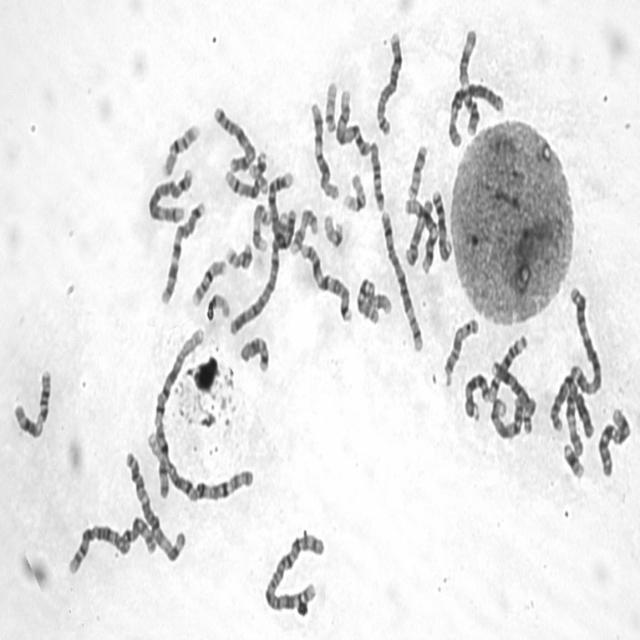A1: (151, 323, 207, 502), (146, 426, 256, 504)
A2: (64, 511, 158, 578), (261, 527, 327, 614)
A3: (122, 445, 187, 565), (566, 279, 603, 398)
B4: (227, 203, 290, 338), (264, 165, 296, 252)
B5: (378, 206, 424, 354), (145, 163, 194, 224)
C10: (598, 403, 634, 478), (353, 273, 391, 325)
C11: (10, 364, 53, 442), (455, 24, 481, 137)
C12: (396, 194, 441, 276), (307, 98, 340, 202)
C6: (445, 76, 505, 150), (547, 364, 585, 458)
C7: (158, 196, 208, 308), (297, 238, 354, 324)
C8: (373, 26, 404, 138), (488, 355, 537, 424)
C9: (333, 84, 371, 158), (488, 391, 525, 443)
D13: (429, 184, 453, 263), (461, 367, 491, 423)
D14: (486, 330, 529, 402), (222, 166, 270, 200)
D15: (440, 313, 480, 389), (402, 194, 435, 272)
E16: (159, 118, 201, 178), (188, 255, 228, 308)
E17: (287, 203, 319, 257), (249, 198, 271, 254)
E18: (237, 332, 270, 375), (368, 136, 386, 214)
F19: (340, 168, 368, 215), (204, 290, 231, 324)
F20: (404, 139, 430, 201), (222, 238, 254, 272)
G21: (560, 438, 586, 481), (246, 147, 268, 182)
G22: (321, 209, 345, 249), (322, 76, 338, 135)
X: (210, 100, 258, 174)
Y: (574, 392, 596, 441)
